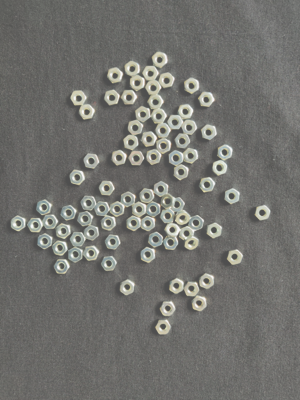nut: (107, 67, 124, 84), (152, 51, 168, 69), (121, 90, 138, 106), (198, 92, 215, 108), (135, 106, 151, 123), (212, 160, 228, 177), (69, 170, 86, 186), (153, 181, 169, 198), (188, 215, 204, 232), (227, 250, 244, 266), (37, 233, 53, 250), (52, 240, 69, 256), (101, 256, 118, 272), (140, 247, 156, 264), (199, 273, 215, 290), (185, 77, 200, 95), (154, 320, 172, 335), (125, 61, 141, 77), (159, 73, 175, 89), (71, 90, 87, 106), (79, 104, 95, 120), (104, 90, 120, 106), (178, 104, 194, 120), (128, 120, 144, 136), (201, 125, 217, 141), (156, 139, 172, 155), (183, 148, 199, 164), (146, 149, 162, 165), (111, 150, 127, 166), (139, 188, 155, 204), (207, 223, 223, 239), (36, 200, 52, 216), (61, 205, 77, 221), (77, 211, 93, 227), (55, 224, 71, 240), (142, 66, 159, 81), (130, 75, 145, 92), (167, 115, 184, 130), (155, 123, 172, 138), (174, 134, 191, 149), (169, 150, 184, 167), (128, 151, 145, 166), (199, 178, 216, 193), (225, 188, 240, 205), (83, 154, 100, 169), (146, 201, 161, 218), (121, 191, 136, 208), (27, 218, 44, 233), (164, 223, 181, 238), (120, 279, 135, 296), (148, 95, 164, 110), (151, 109, 167, 124), (181, 120, 197, 135), (218, 145, 233, 161), (141, 132, 157, 147), (124, 135, 139, 151), (174, 165, 189, 181), (255, 206, 271, 221), (99, 181, 115, 196), (161, 194, 176, 210), (175, 210, 191, 225), (11, 216, 26, 232), (81, 196, 97, 211), (101, 216, 117, 231), (70, 232, 86, 247), (84, 225, 99, 241), (68, 247, 83, 263), (83, 246, 99, 261), (105, 235, 121, 250), (148, 232, 163, 248), (184, 282, 200, 297), (192, 296, 207, 312), (160, 302, 176, 317), (145, 81, 162, 95), (42, 215, 59, 229), (110, 201, 124, 218), (170, 278, 184, 295), (180, 226, 195, 241), (184, 235, 199, 250), (132, 202, 146, 218), (160, 210, 176, 224), (94, 202, 110, 216), (142, 216, 156, 232), (54, 260, 70, 274), (163, 236, 179, 250), (171, 198, 185, 213), (127, 216, 141, 231)
